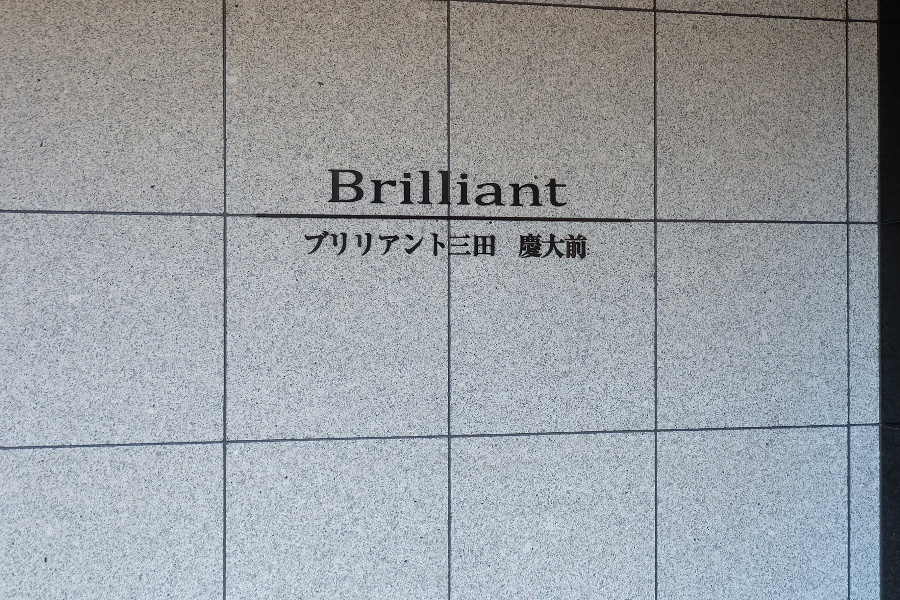text: (337, 169, 352, 209), (353, 169, 368, 209), (369, 169, 384, 209), (385, 169, 400, 209), (401, 169, 416, 209), (417, 169, 432, 209), (433, 169, 448, 209), (449, 169, 464, 209), (465, 169, 480, 209), (481, 169, 496, 209), (497, 169, 512, 209), (513, 169, 528, 209), (529, 169, 544, 209), (545, 169, 560, 209), (561, 169, 571, 209), (305, 231, 320, 257), (321, 231, 336, 257), (337, 231, 352, 257), (353, 231, 368, 257), (369, 231, 384, 257), (385, 231, 400, 257), (401, 231, 416, 257), (417, 231, 432, 257), (433, 231, 448, 257), (449, 231, 464, 257), (465, 231, 480, 257), (481, 231, 496, 257), (529, 233, 544, 259), (545, 233, 560, 259), (561, 233, 576, 259), (328, 169, 336, 209), (577, 233, 589, 259), (520, 233, 528, 259), (303, 231, 304, 257)
